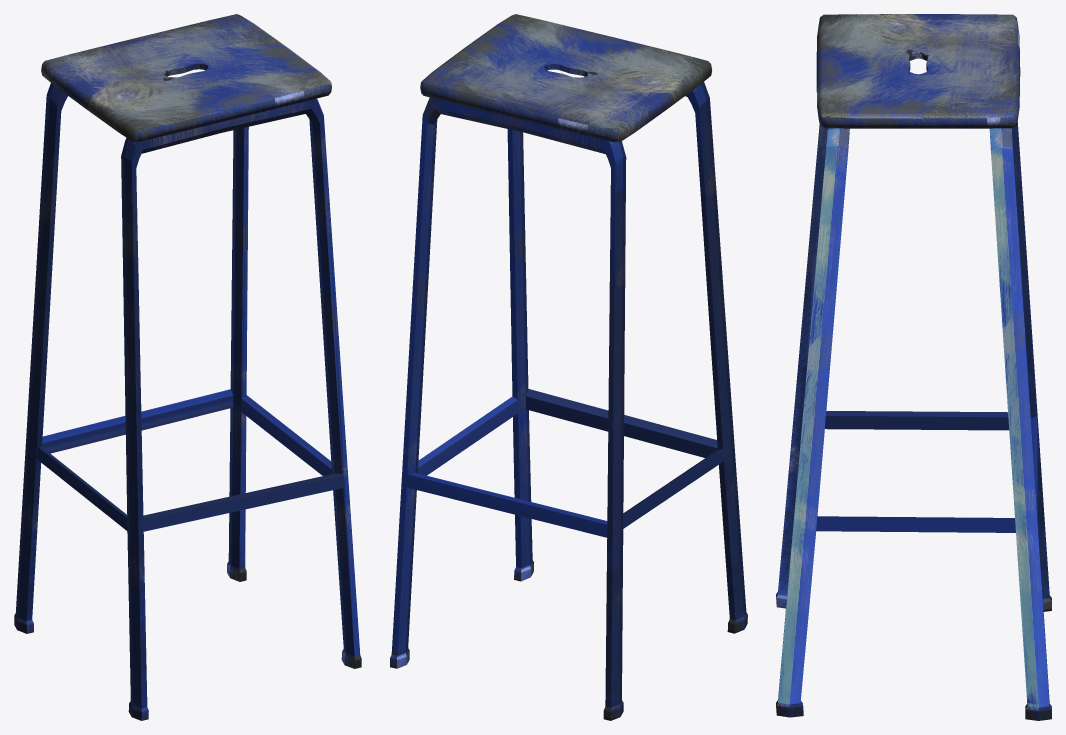
The model's file is chaise haute.FBX.
3 renders of one model, left to right at view 1: azimuth 30°, elevation 25°; view 2: azimuth 150°, elevation 25°; view 3: azimuth 270°, elevation 25°, orthographic. The views are drawn at different scales.
Visible parts, largest first — view 1: Objet011; view 2: Objet011; view 3: Objet011.
Boxes of the visible parts, x1=… form: Objet011: x1=14, y1=14, x2=361, y2=720; Objet011: x1=390, y1=14, x2=747, y2=720; Objet011: x1=776, y1=14, x2=1051, y2=720.
Bounding box in the file's own units: 66.02 × 157 × 65.44.
